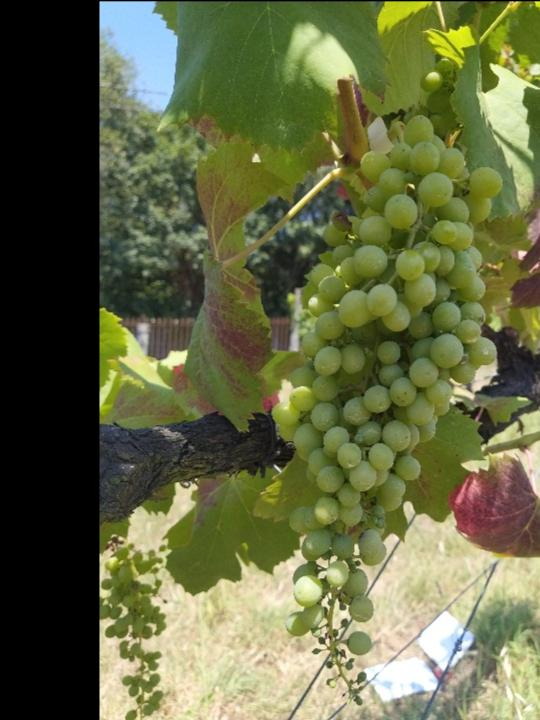grape: (271, 56, 499, 707), (102, 538, 177, 718)
